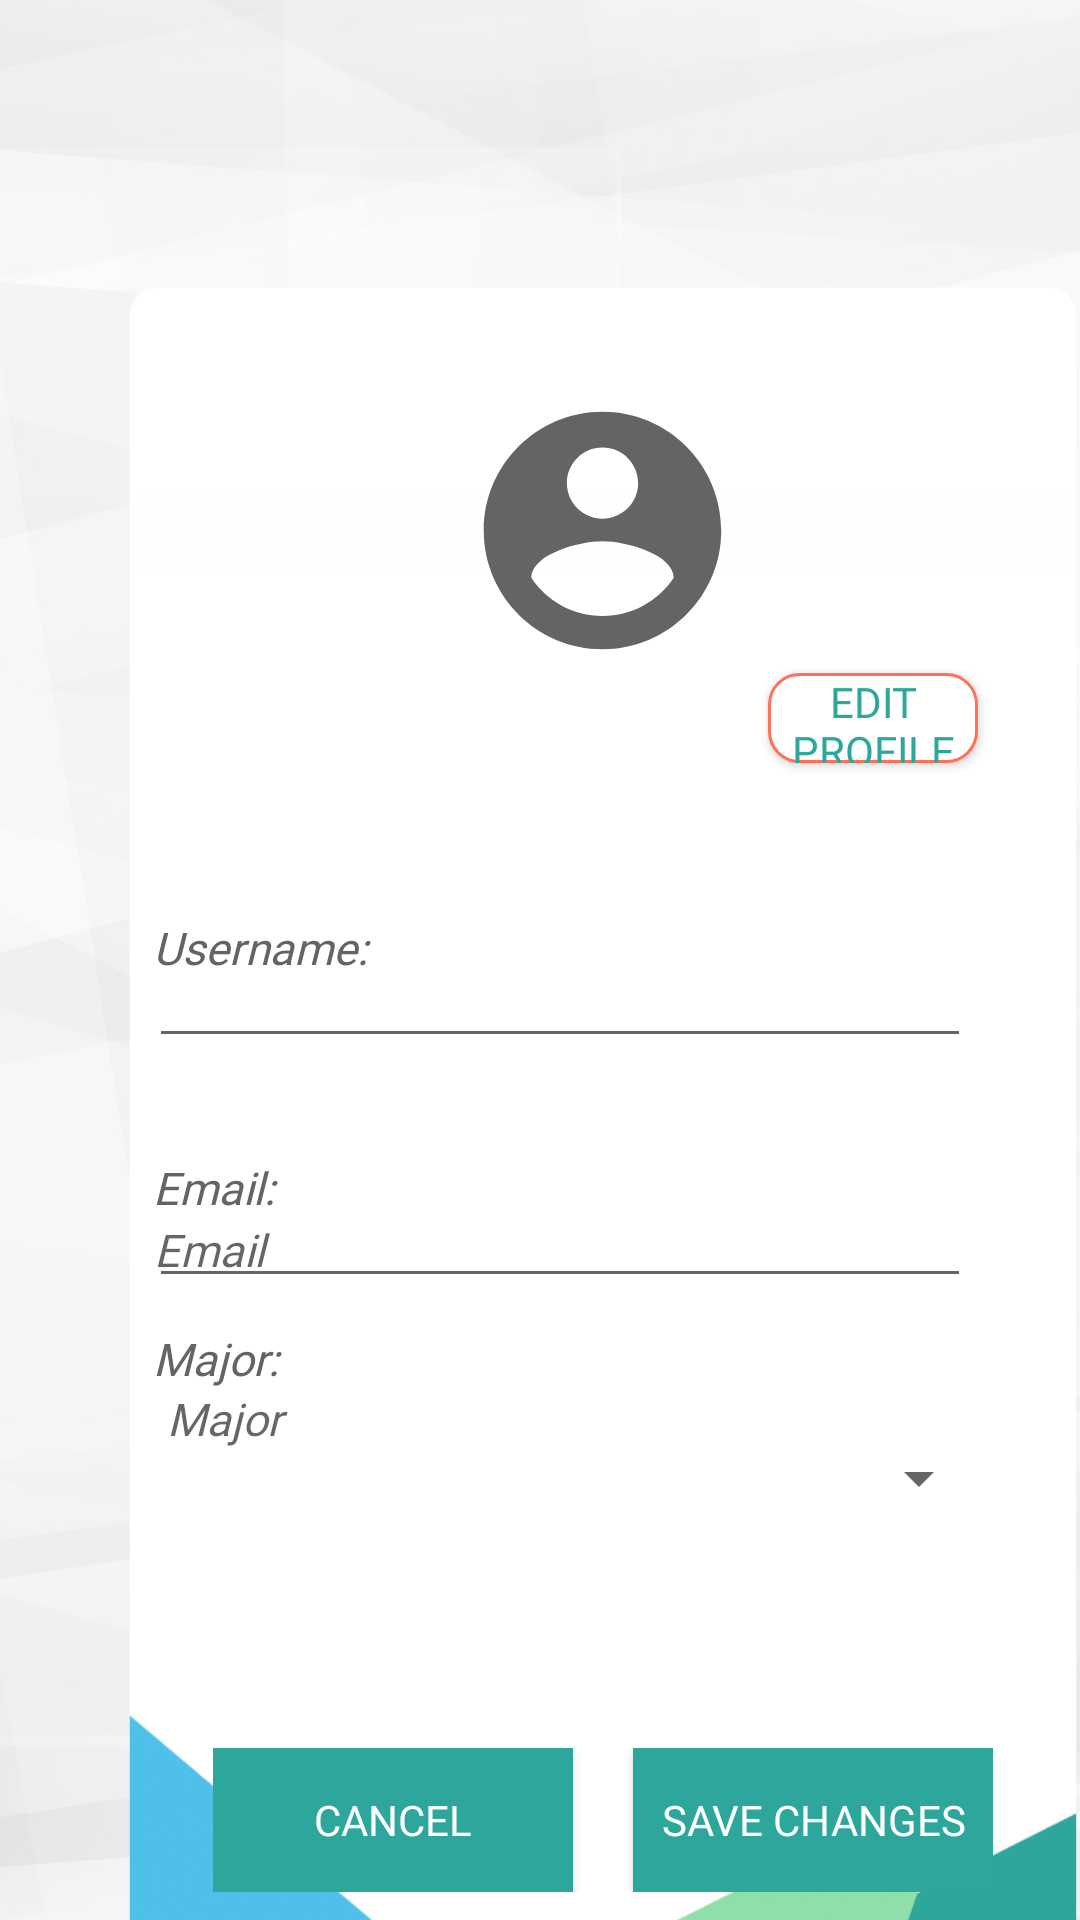

Point at icon controls on the screen. Image size 1080*1920, points as (x=x, y=y).
account circle: (x=602, y=530)
